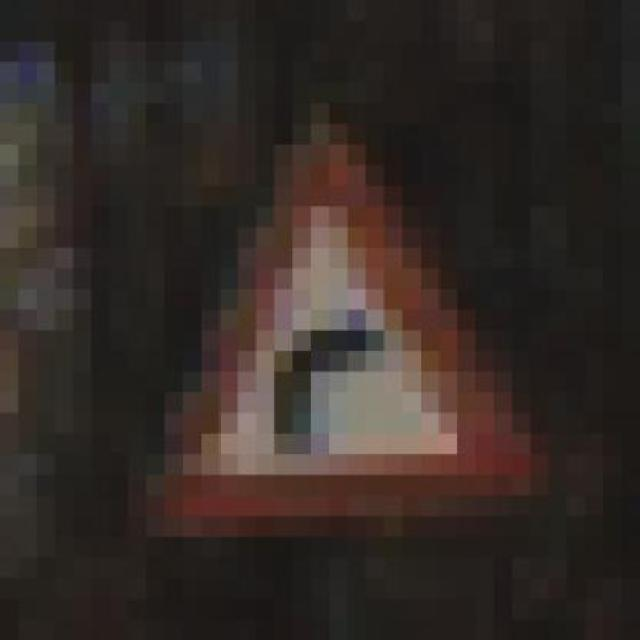Dangerous Rright Curve Ahead: (128, 124, 549, 558)
